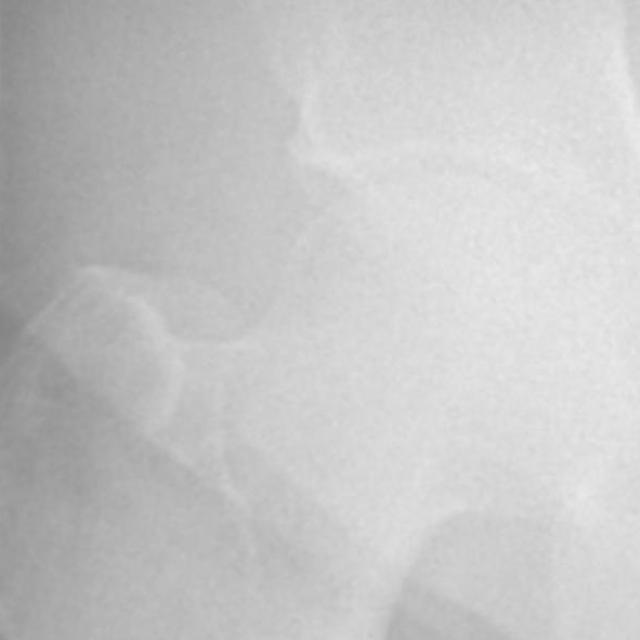Fitted_femural_head: (343, 175, 432, 343)
